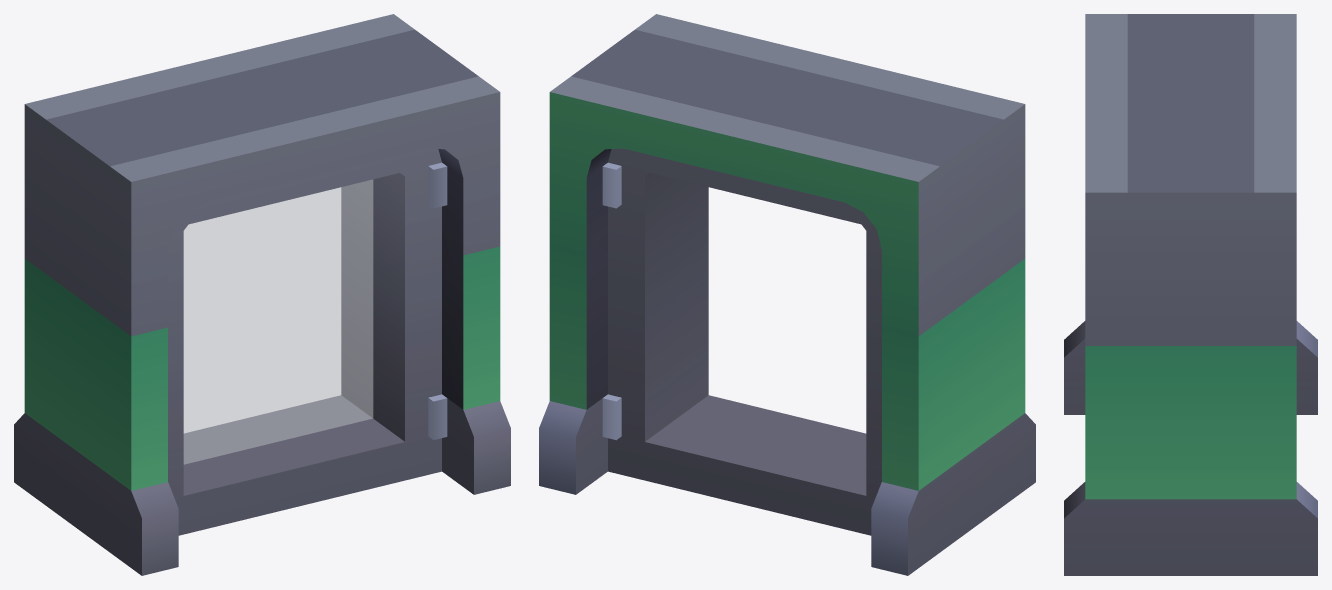
The model's file is wall-window.glb.
3 views of the same model, side by side, from view 1: azimuth 30°, elevation 25°; view 2: azimuth 150°, elevation 25°; view 3: azimuth 270°, elevation 25° (orthographic).
Parts seen in each view (by area): view 1: wall-window, Group, (%ignore); view 2: wall-window, Group; view 3: wall-window.
Part boxes in pixels (bbox=[...]): wall-window: bbox=[14, 14, 510, 575]; Group: bbox=[168, 148, 441, 535]; (%ignore): bbox=[183, 179, 373, 464]; wall-window: bbox=[539, 14, 1035, 575]; Group: bbox=[608, 148, 881, 535]; wall-window: bbox=[1064, 14, 1317, 575].
Bounding box in the file's own units: 1 × 1 × 0.6001.
2 materials, 1 textured.
